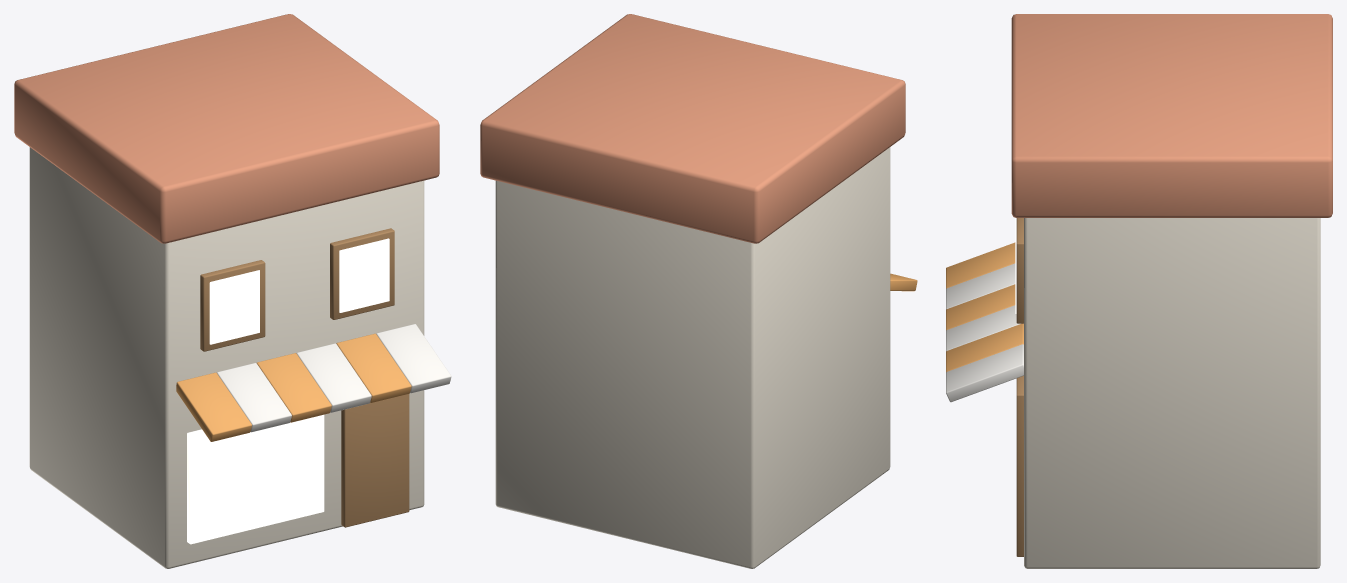
File: prop_shop_house.glb
The picture shows the model from 3 angles, left to right: view 1: azimuth 30°, elevation 25°; view 2: azimuth 150°, elevation 25°; view 3: azimuth 270°, elevation 25°; orthographic projection. The views are drawn at different scales.
Visible parts, largest first — view 1: BuildingBody, Roof, ShopWindow, ShopDoor, WinGlass_-0.65, WinGlass_0.65, Awning_0, Awning_3, Awning_2, Awning_4, Awning_5, Awning_1 (+2 smaller); view 2: BuildingBody, Roof; view 3: BuildingBody, Roof, Awning_5, Awning_4, Awning_3, Awning_1, Awning_0, Awning_2, ShopDoor, WinFrame_0.65.
Boxes of the visible parts, x1,y1,x2,y2 form: BuildingBody: [29, 147, 424, 568]; Roof: [14, 14, 439, 243]; ShopWindow: [187, 414, 324, 544]; ShopDoor: [341, 394, 409, 527]; WinGlass_-0.65: [209, 270, 259, 344]; WinGlass_0.65: [339, 238, 389, 312]; Awning_0: [176, 372, 251, 441]; Awning_3: [296, 343, 371, 412]; Awning_2: [256, 353, 331, 422]; Awning_4: [336, 333, 411, 402]; Awning_5: [376, 324, 451, 393]; Awning_1: [217, 363, 291, 432]; BuildingBody: [495, 147, 890, 568]; Roof: [480, 14, 905, 243]; BuildingBody: [1024, 218, 1320, 568]; Roof: [1011, 14, 1332, 217]; Awning_5: [946, 344, 1023, 402]; Awning_4: [946, 323, 1023, 372]; Awning_3: [946, 305, 1020, 351]; Awning_1: [946, 263, 1015, 309]; Awning_0: [946, 242, 1015, 288]; Awning_2: [946, 284, 1015, 330]; ShopDoor: [1016, 376, 1023, 556]; WinFrame_0.65: [1016, 218, 1023, 323].
Size of the model in its own units: 2.8 by 3.73 by 3.13.
